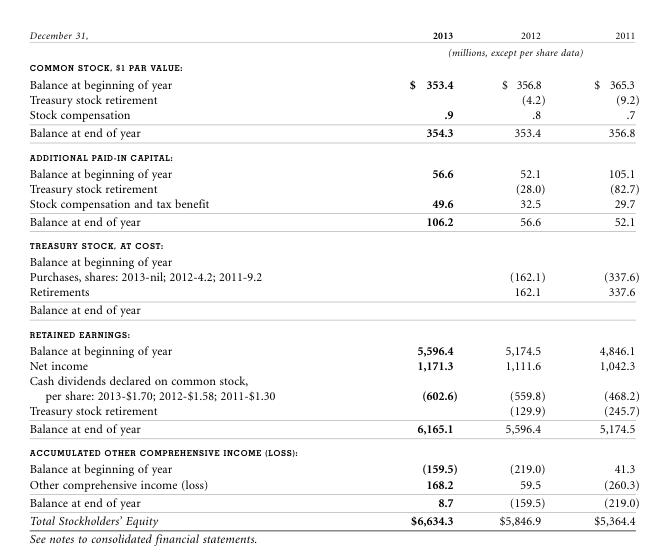table: (28, 29, 638, 526)
table column: (28, 29, 341, 526), (341, 29, 477, 526), (477, 29, 568, 526), (568, 29, 638, 526)
table column header: (28, 29, 638, 59)
table projected row header: (28, 301, 638, 322), (28, 145, 638, 164), (28, 322, 638, 341), (28, 234, 638, 252), (28, 441, 638, 459), (28, 252, 638, 269), (28, 59, 638, 74)
table row: (28, 372, 638, 403), (28, 123, 638, 145), (28, 212, 638, 234), (28, 419, 638, 441), (28, 301, 638, 322), (28, 145, 638, 164), (28, 322, 638, 341), (28, 74, 638, 92), (28, 234, 638, 252), (28, 441, 638, 459), (28, 493, 638, 511), (28, 195, 638, 212), (28, 252, 638, 269), (28, 284, 638, 301), (28, 459, 638, 476), (28, 476, 638, 493), (28, 43, 638, 59), (28, 107, 638, 123), (28, 164, 638, 180), (28, 341, 638, 357), (28, 403, 638, 419), (28, 59, 638, 74), (28, 92, 638, 107), (28, 180, 638, 195), (28, 269, 638, 284), (28, 357, 638, 372), (28, 511, 638, 526), (28, 29, 638, 43)
table spanning cell: (28, 29, 341, 59), (341, 43, 638, 59)
